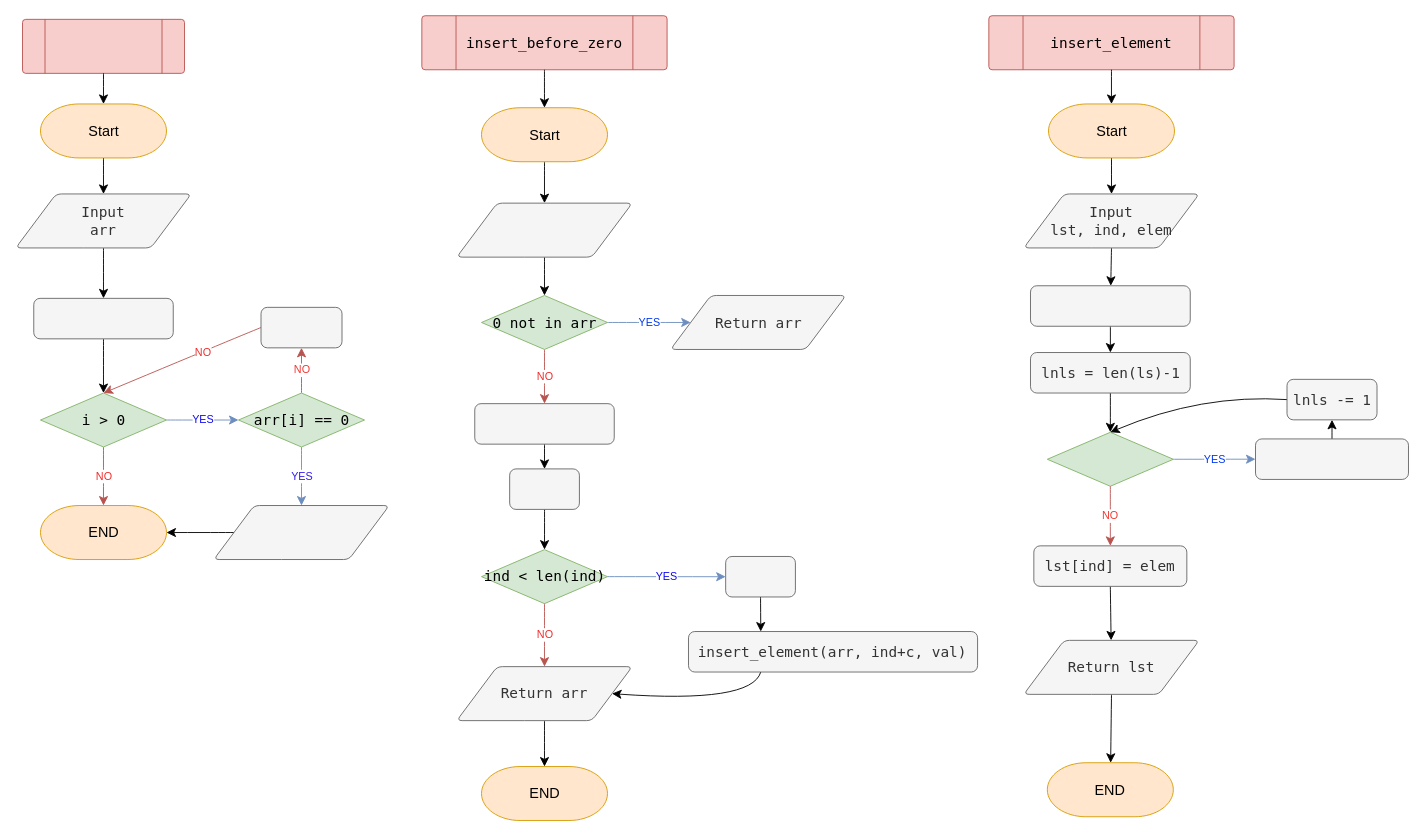
This 1425x837 diagram has some shape labels left out. The shapes that lost their labels are listed below. From the top down, each one's centre as x and y in pixels, then its label:
At (x=103, y=45): "find_zero".
At (x=544, y=229): "Input arr, val".
At (x=103, y=318): "i = len(arr)".
At (x=1110, y=305): "lst = lst+[None]".
At (x=301, y=327): "i = i -1".
At (x=544, y=423): "ind = 0".
At (x=1109, y=458): "lnls>ind".
At (x=1331, y=458): "lst[i] = lst[i-1]".
At (x=544, y=488): "c = 0".
At (x=301, y=532): "Return i".
At (x=760, y=576): "c+=1".
